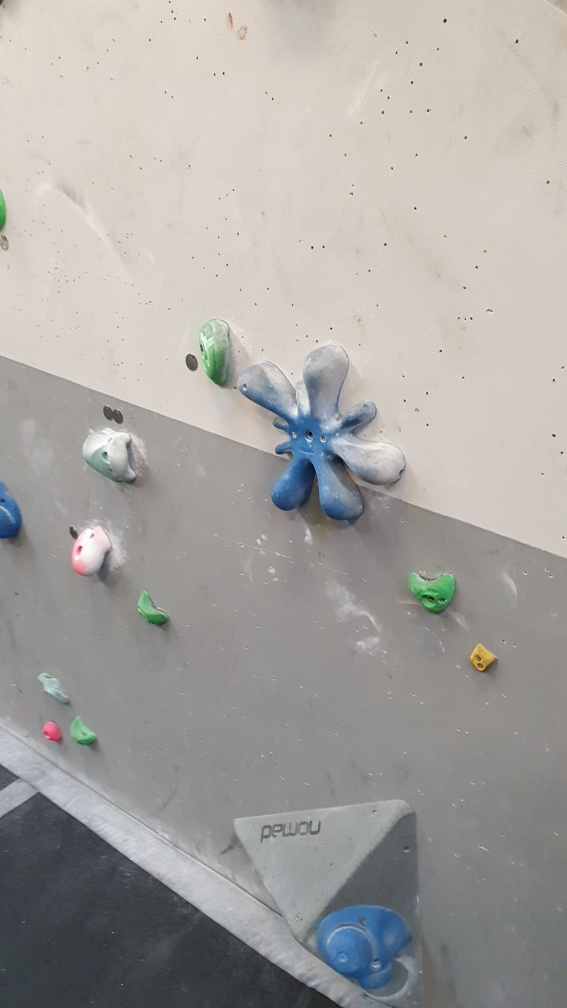Hand Start: (182, 353, 199, 375), (99, 401, 116, 421), (112, 407, 126, 429)
Jug: (197, 321, 242, 391), (97, 429, 147, 485), (405, 570, 457, 617), (73, 527, 114, 581), (136, 590, 172, 637), (61, 711, 95, 749)
Octopus Pinch: (241, 344, 411, 523)
Sloper: (306, 902, 416, 998)
